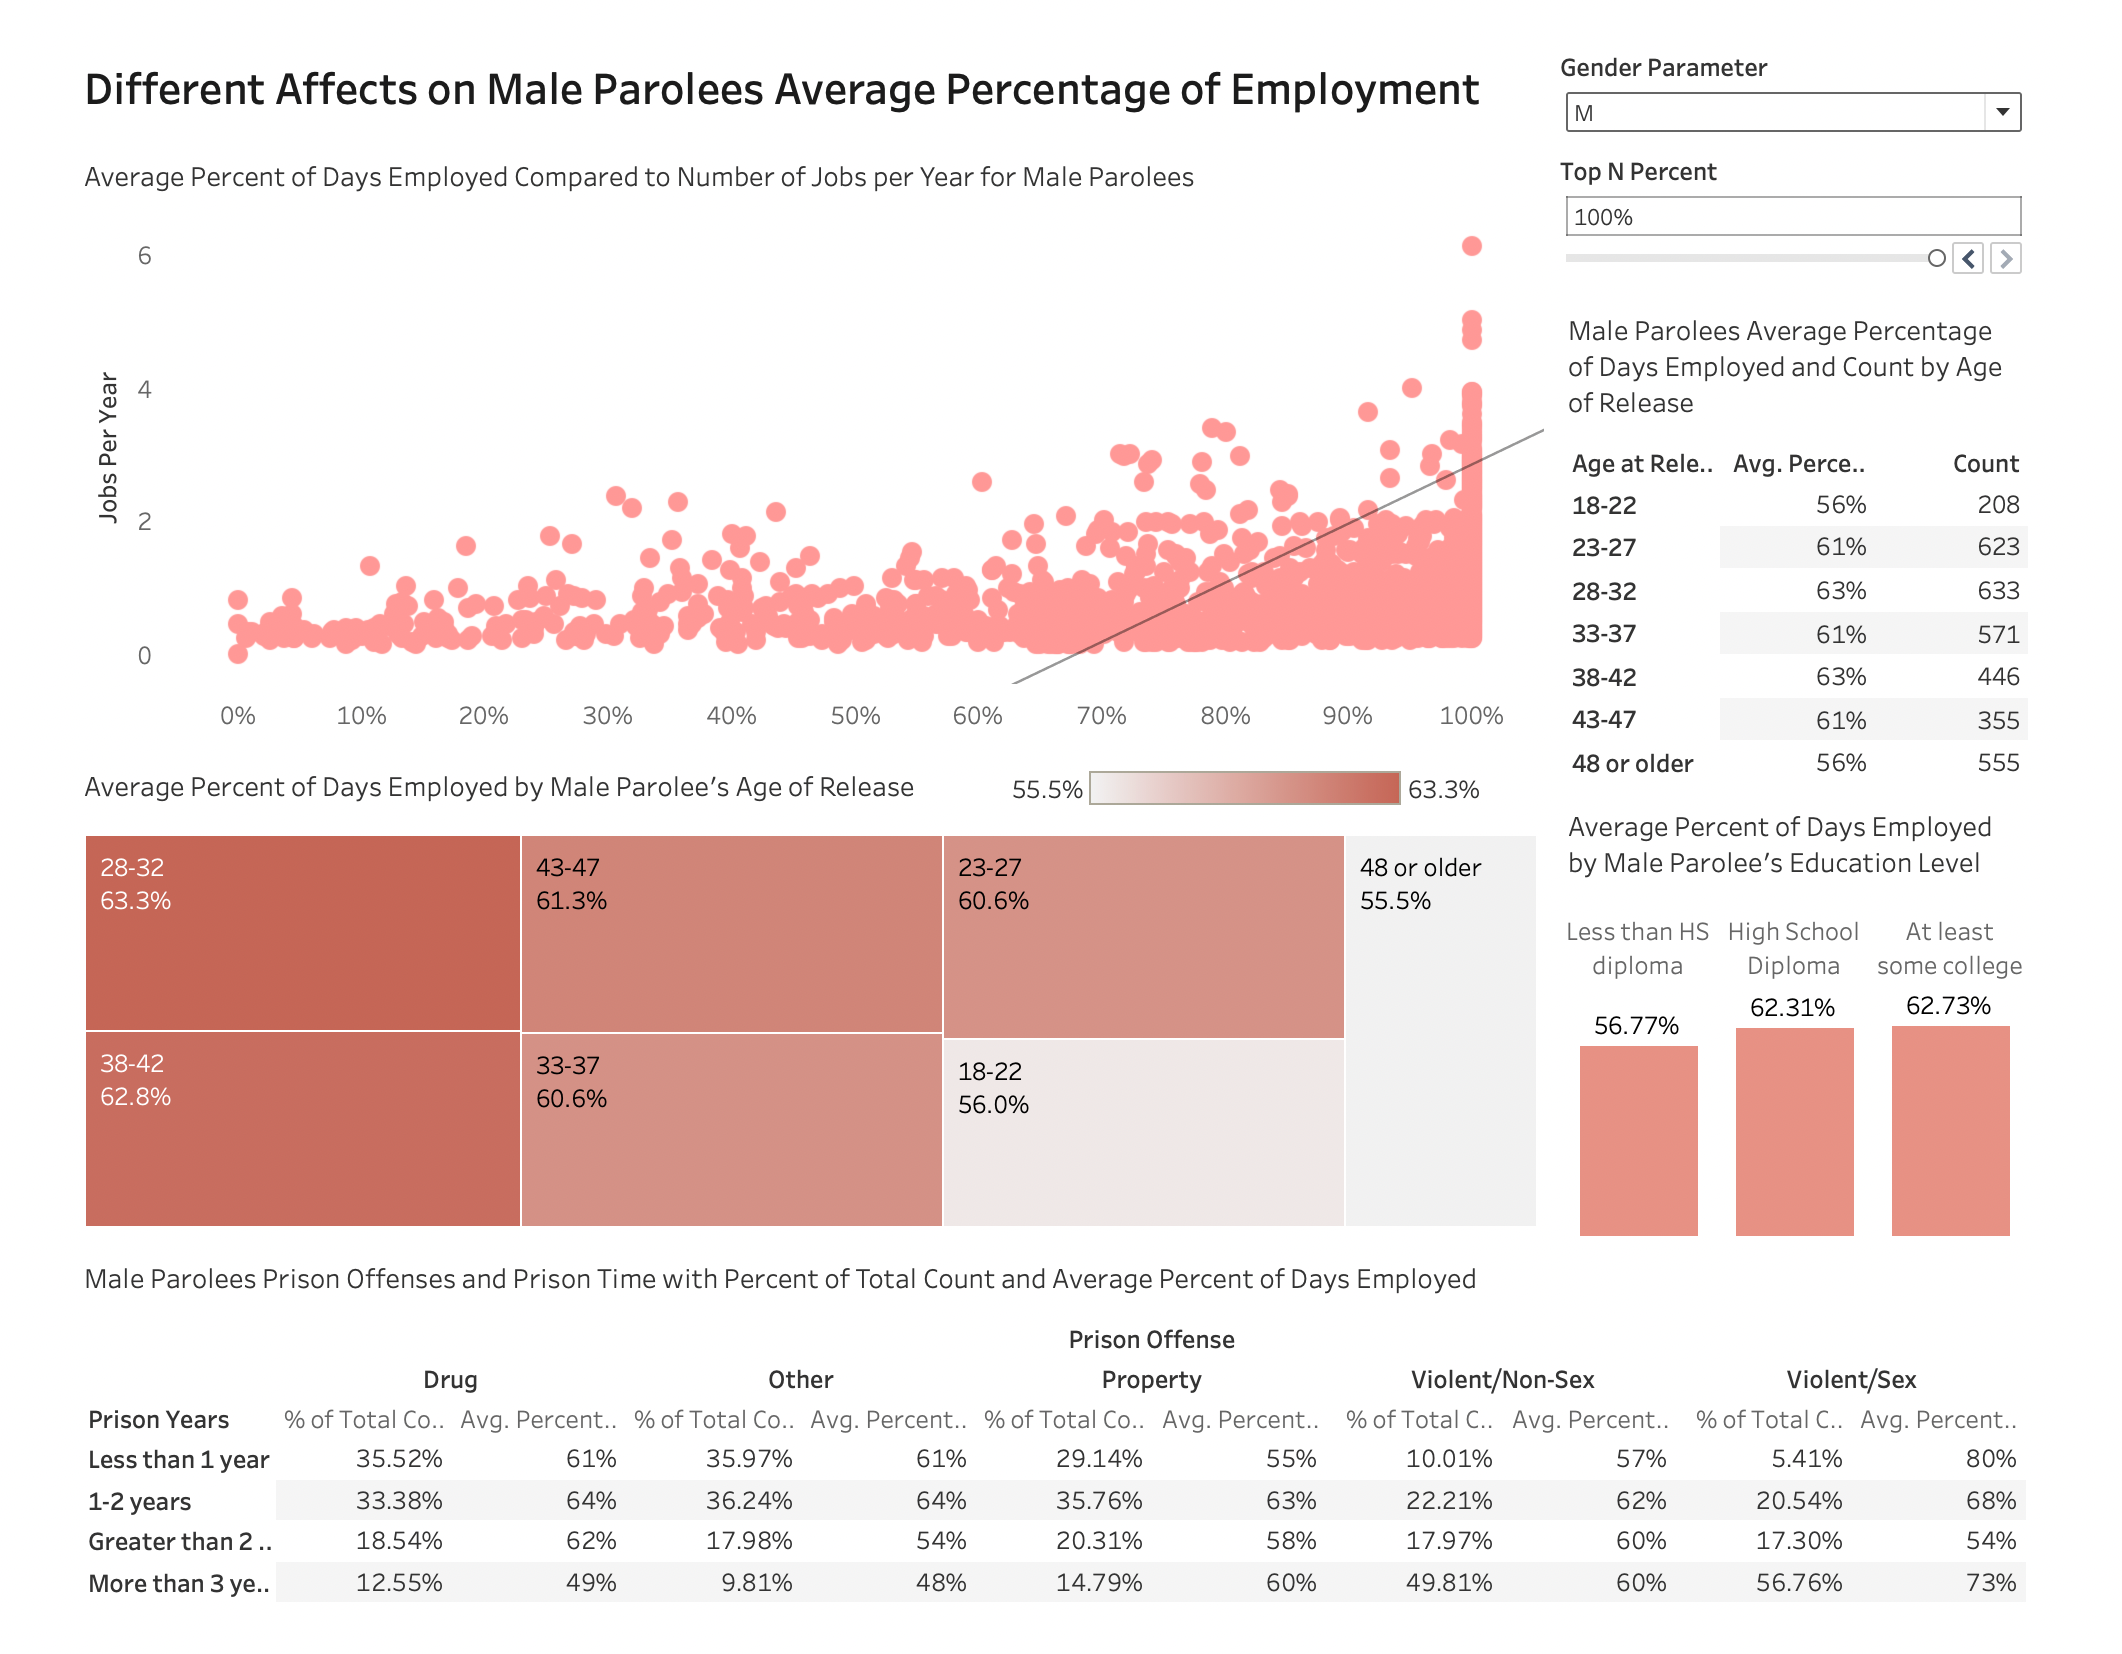

This screenshot's page, from the dashboard's own definition file:
{"tool":"tableau","page":{"name":"Dashboard 2","canvas":[1000,800],"ordinal":0},"visuals":[{"type":"worksheet","title":"Title","mark":"Polygon","box":[8,8,742,49.8]},{"type":"parameter","param":"[Parameters].[Gender Parameter]","box":[750,8,242,52]},{"type":"worksheet","title":"Clustering","mark":"Circle","rows":["Jobs_Per_Year"],"cols":["Percent_Days_Employed (NIJ_s_Recidivism_Challenge_Test_Datas"],"box":[8,57.8,742,305.2]},{"type":"parameter","param":"[Parameters].[Parameter 1]","box":[750,60,242,75]},{"type":"worksheet","title":"Table 1","mark":"Automatic","rows":["Age_at_Release","Calculation_5237827172223508482"],"box":[750,135,242,248]},{"type":"worksheet","title":"Heat Map","mark":"Automatic","rows":["Calculation_5237827172223508482"],"box":[8,363,742,246]},{"type":"legend","title":"Heat Map","param":"[federated.1miz50410ii5hw12bx4ve05vakvr].[avg:Percent_Days_Employed (NIJ_s_Recid","box":[476,369,243,40]},{"type":"worksheet","title":"Bar Graph","mark":"Automatic","rows":["Percent_Days_Employed (NIJ_s_Recidivism_Challenge_Test_Datas"],"cols":["Education_Level","Calculation_5237827172223508482"],"box":[750,383,242,226]},{"type":"worksheet","title":"Table 2","mark":"Automatic","rows":["Prison_Years","Calculation_5237827172223508482"],"cols":["Prison_Offense"],"box":[8,609,984,183]}]}

Visuals, with their boxes in screenshot pixels (x1, y1, x2, y2), scaled from the page's 1000x800 canvas onto the 2122x1654 screenshot:
"Title" worksheet (Polygon marks): rect(17, 17, 1592, 120)
parameter: rect(1592, 17, 2105, 124)
"Clustering" worksheet (Circle marks): rect(17, 120, 1592, 751)
parameter: rect(1592, 124, 2105, 279)
"Table 1" worksheet: rect(1592, 279, 2105, 792)
"Heat Map" worksheet: rect(17, 751, 1592, 1259)
"Heat Map" legend: rect(1010, 763, 1526, 846)
"Bar Graph" worksheet: rect(1592, 792, 2105, 1259)
"Table 2" worksheet: rect(17, 1259, 2105, 1637)
